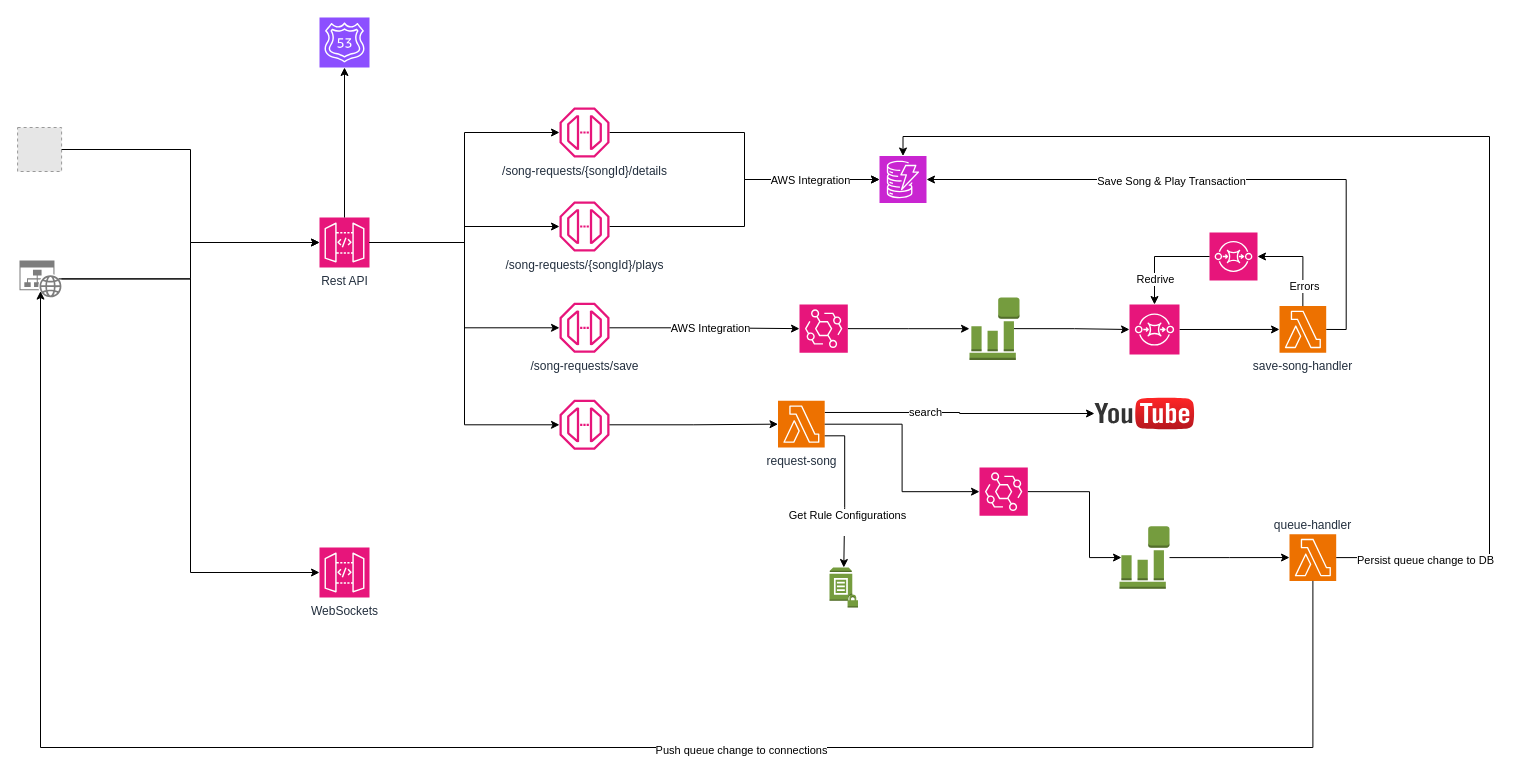
Some shapes in this 1515 by 774 pixel diagram are drawn without their labels. Grey dashed boxes stand in for pictures. The shapes that lost their labels are listed below. From the top down, each one's centre as x and y in pixels, then its label:
At [1233,256]: "DLQ".
At [994,328]: "Song Played Event".
At [584,424]: "/song-requests/request/{songId}".
At [1144,557]: "Song Requested Event".
